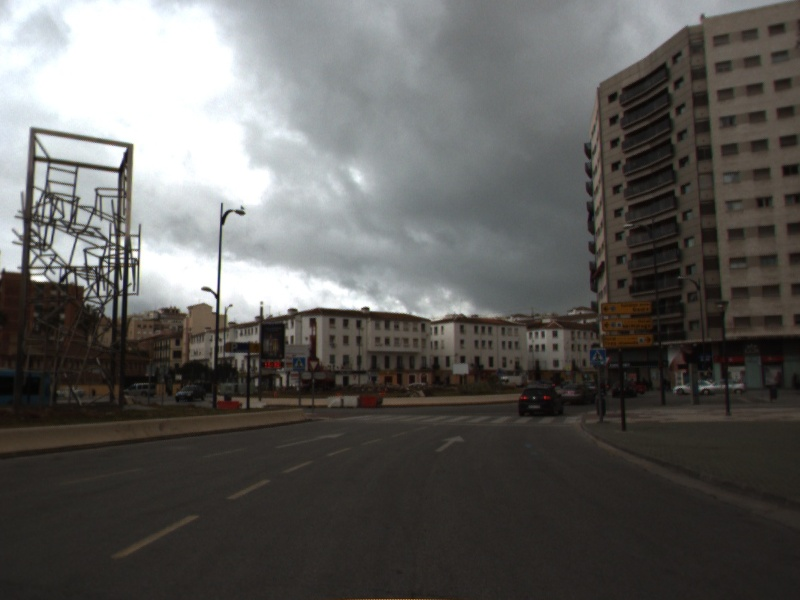STRAIGHT: (272, 430, 348, 451), (433, 433, 467, 454)
